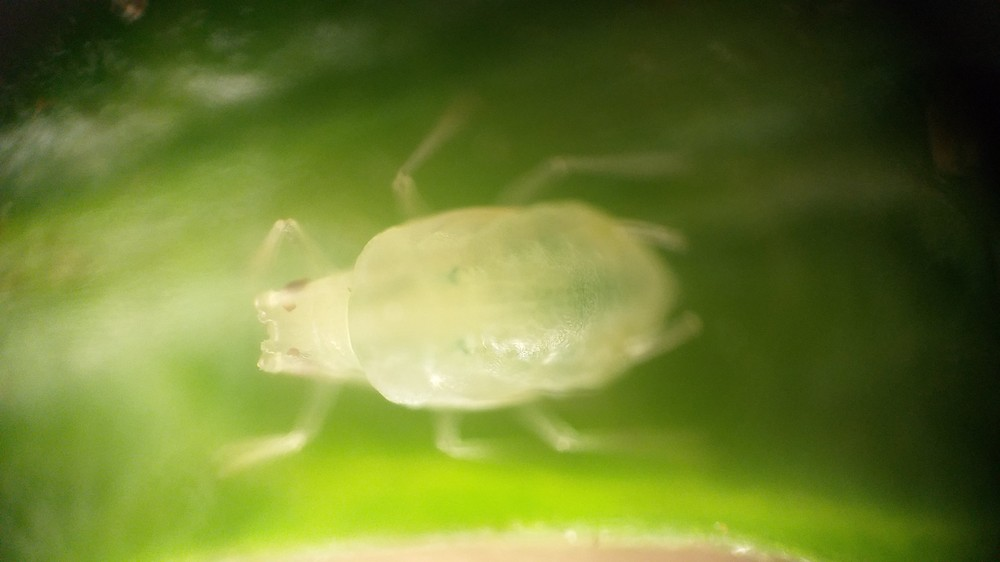Pulgon: (193, 107, 740, 495)
